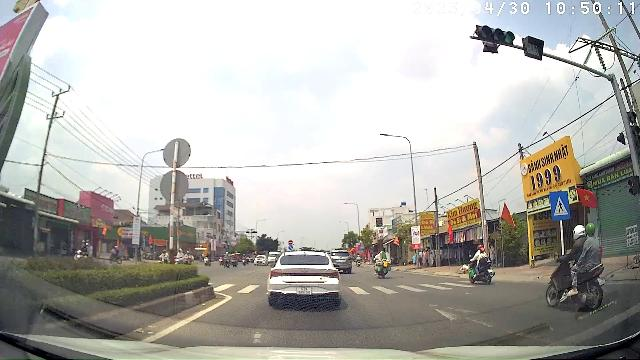423a-duong-nguoi-di-bo-sang-ngang-1: (550, 191, 568, 219)
